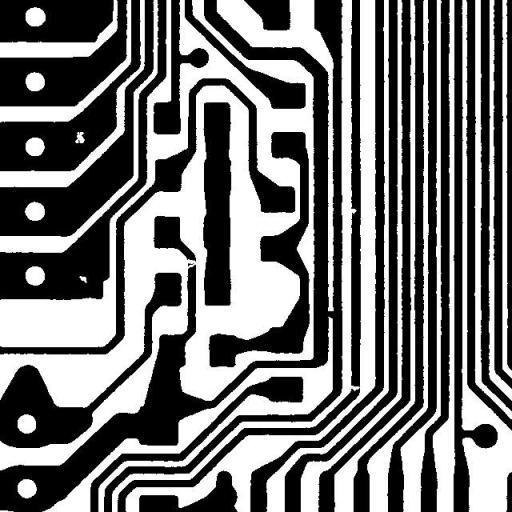mousebite: (341, 201, 364, 221)
open: (175, 251, 205, 278), (342, 378, 368, 398)
pin-hole: (67, 124, 92, 150), (72, 268, 94, 290)
short: (318, 304, 344, 326)
